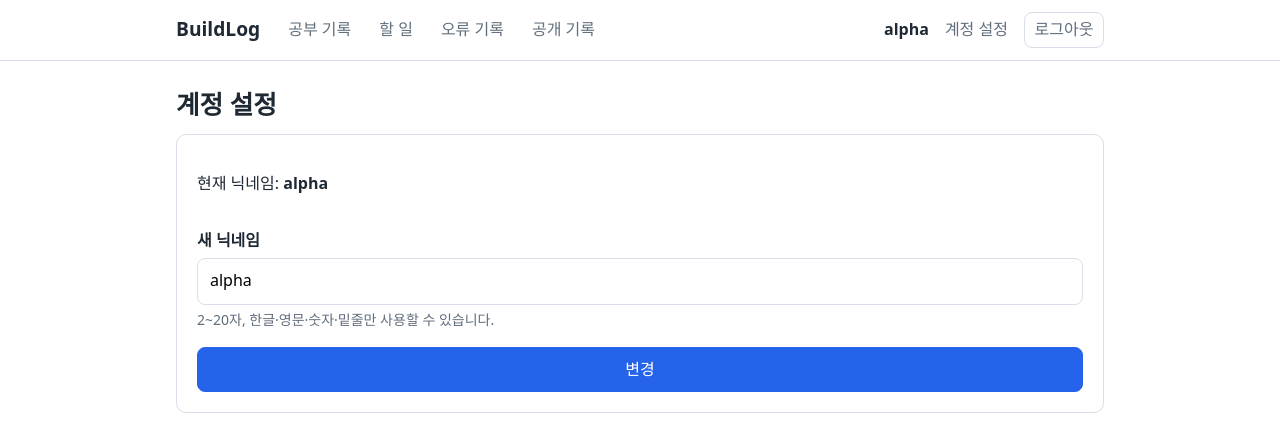
Test: 계정 설정(닉네임 변경) › 변경 중에 로그인이 풀렸으면 로그인 화면으로 보낸다
Click the button "변경" at (640, 370), box left=197, top=347, right=1083, bottom=392
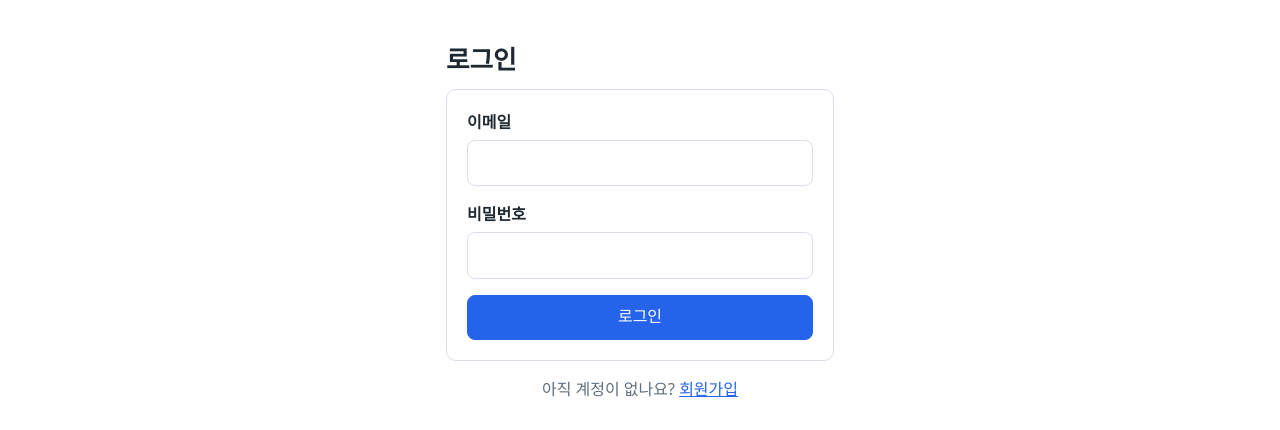
Result: the heading "로그인" is shown at left=446, top=42, right=517, bottom=77
